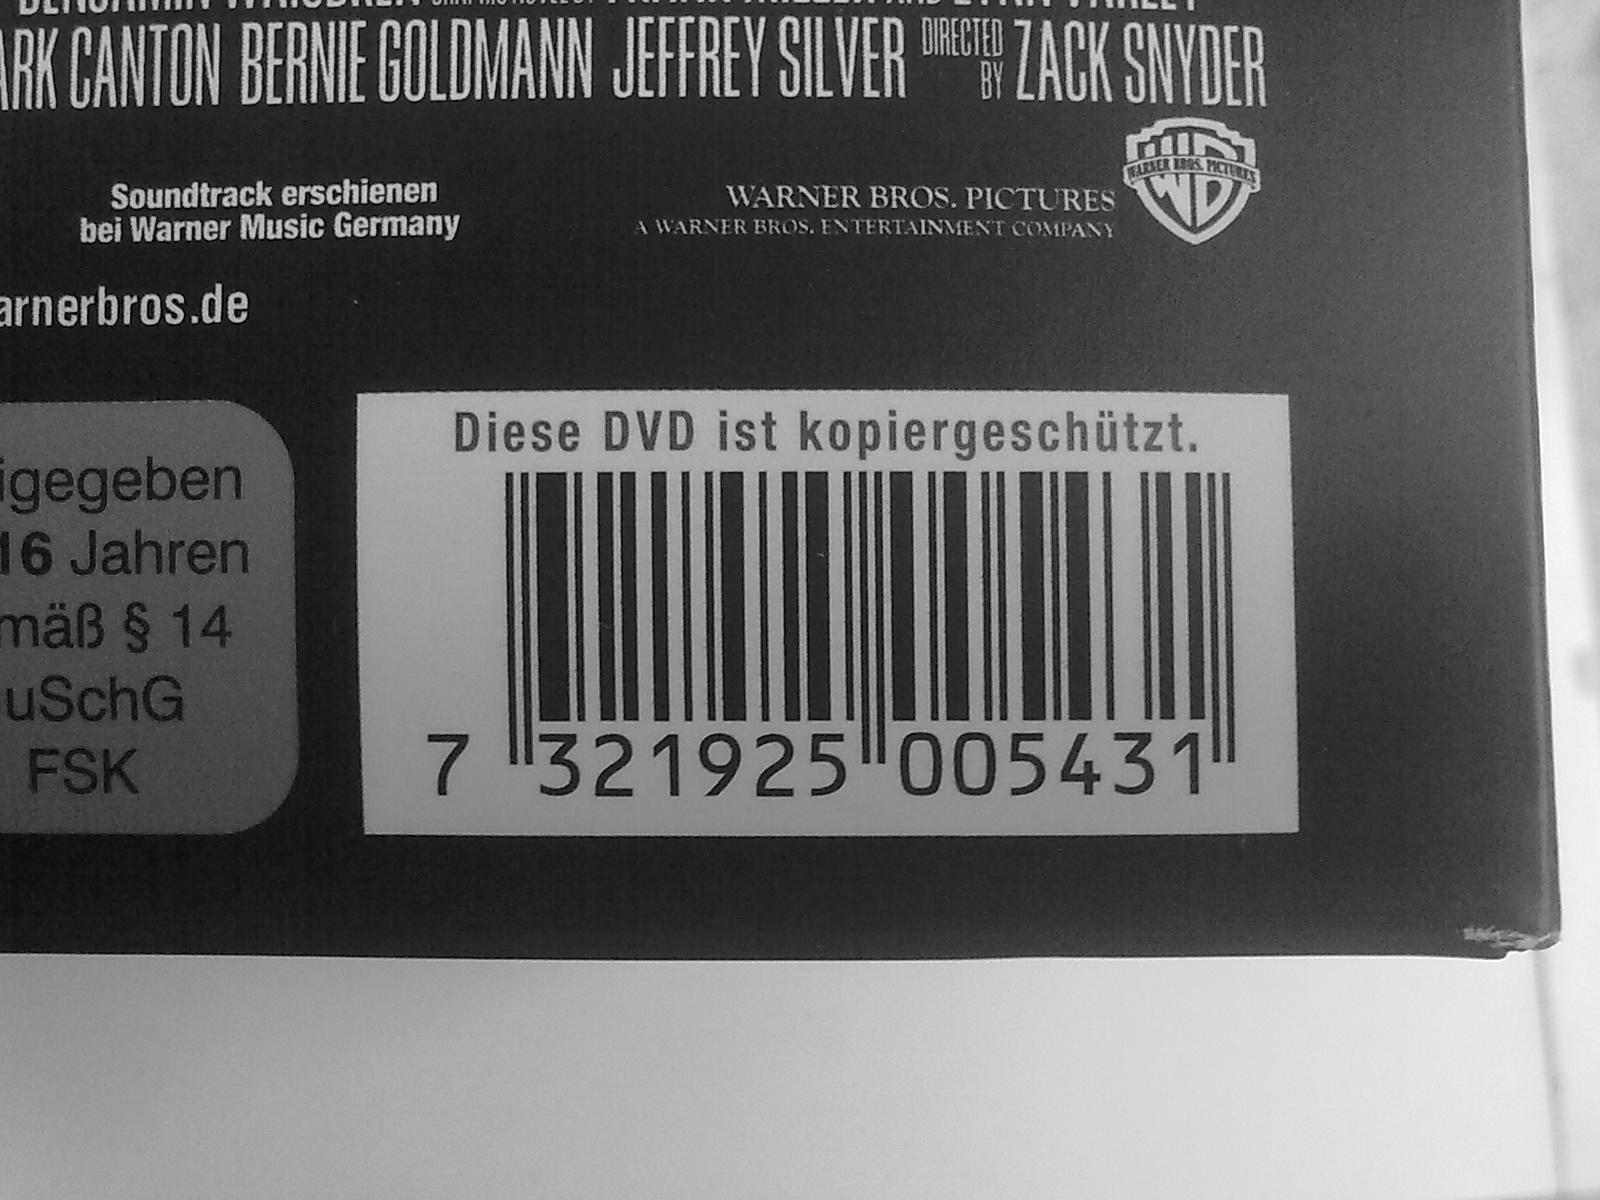Barcode: (397, 402, 1275, 824)
